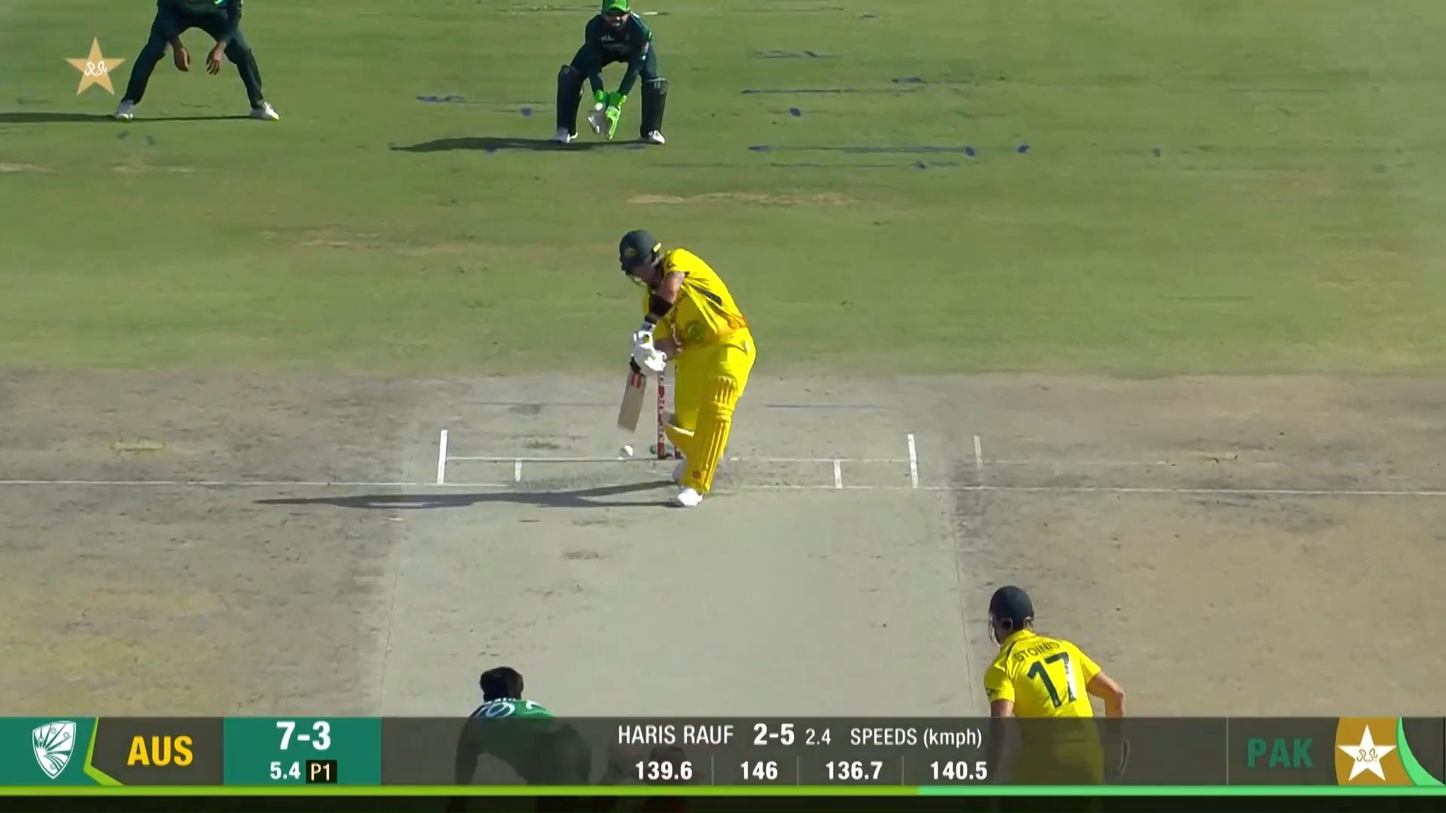BM 1: (616, 228, 758, 509)
BO: (451, 665, 651, 813)
